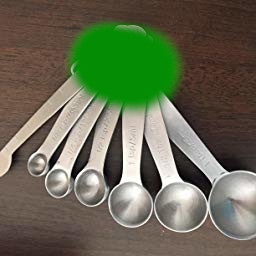focus: (59, 17, 188, 107)
